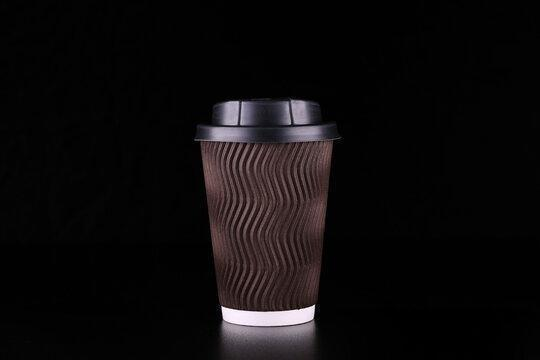cup-disposable: (193, 94, 341, 329)
